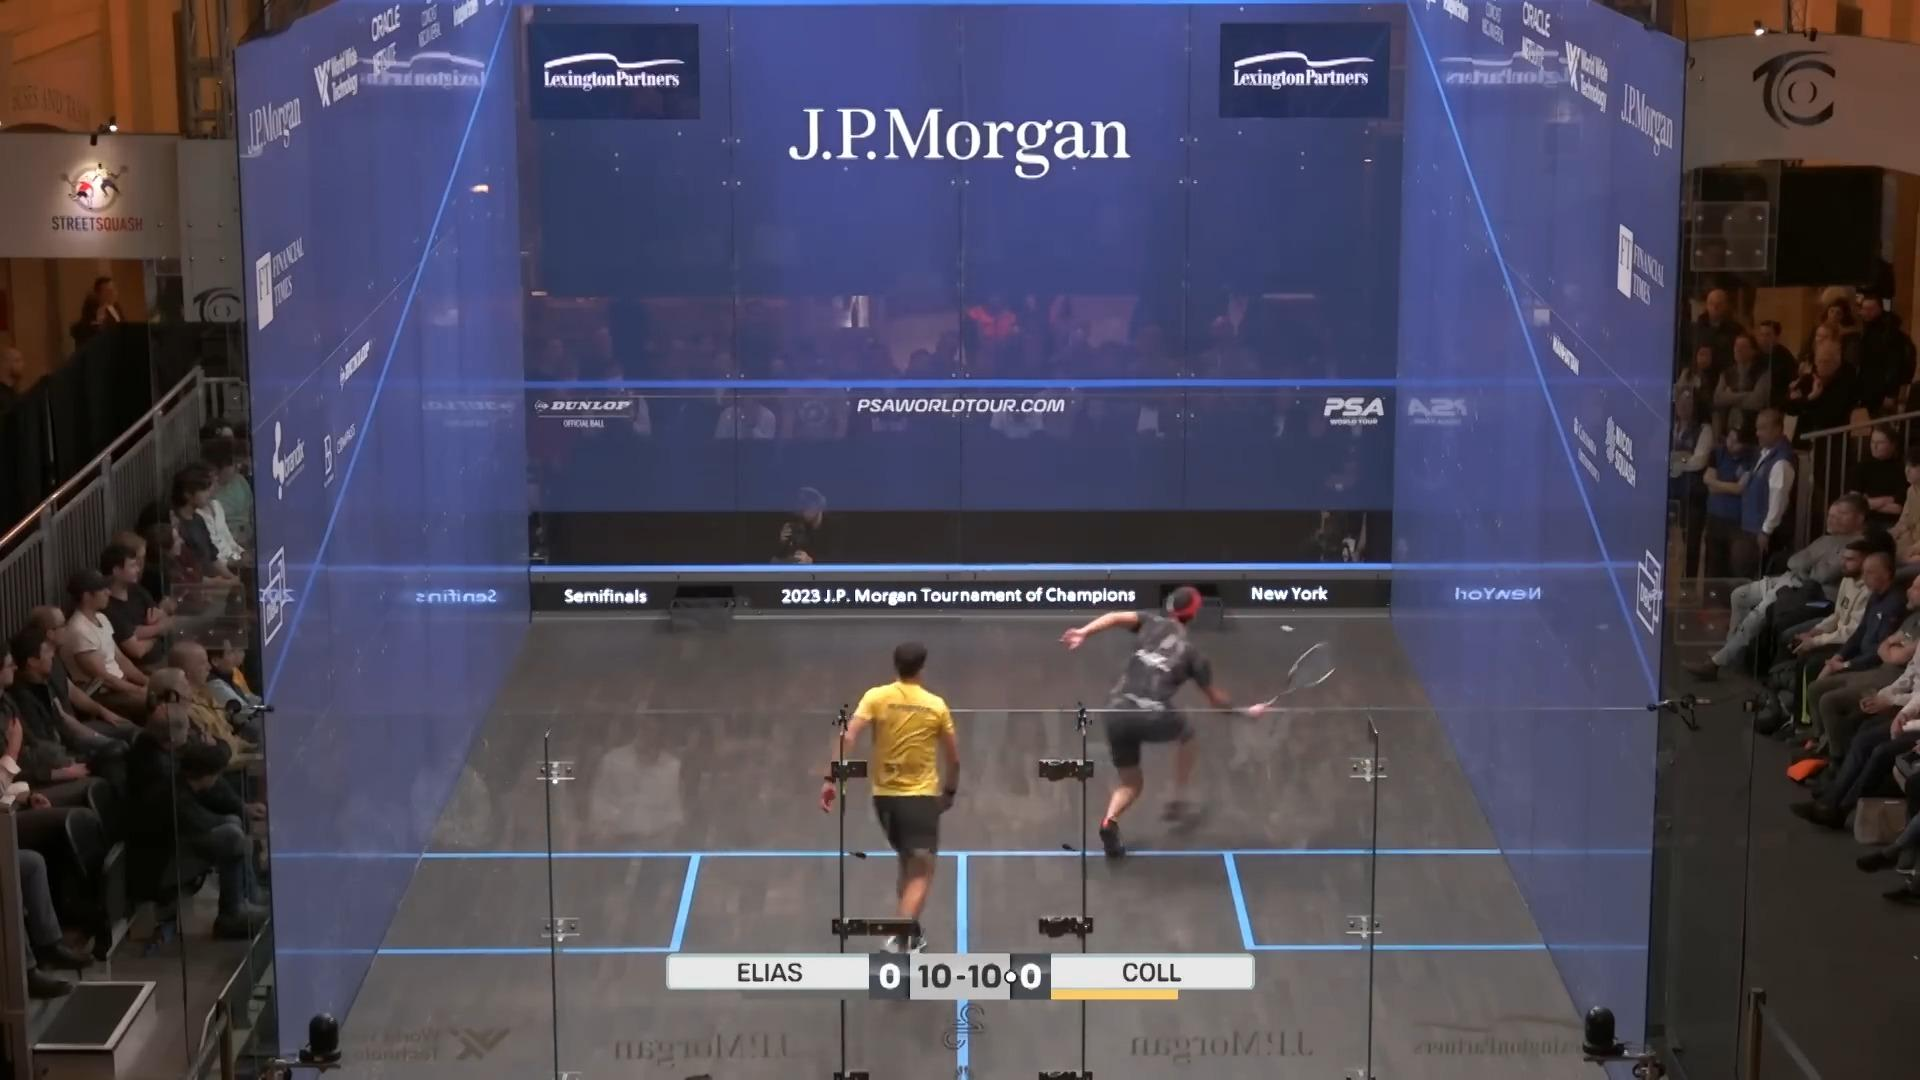Racket: (1253, 630, 1346, 715)
